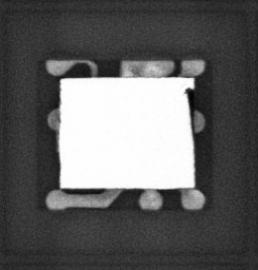DIE_BROKEN: (183, 85, 195, 139)
